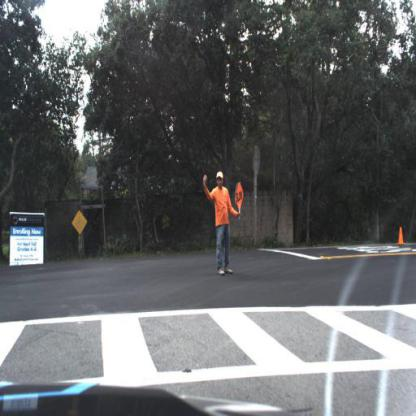pedestrian: (201, 170, 243, 276)
